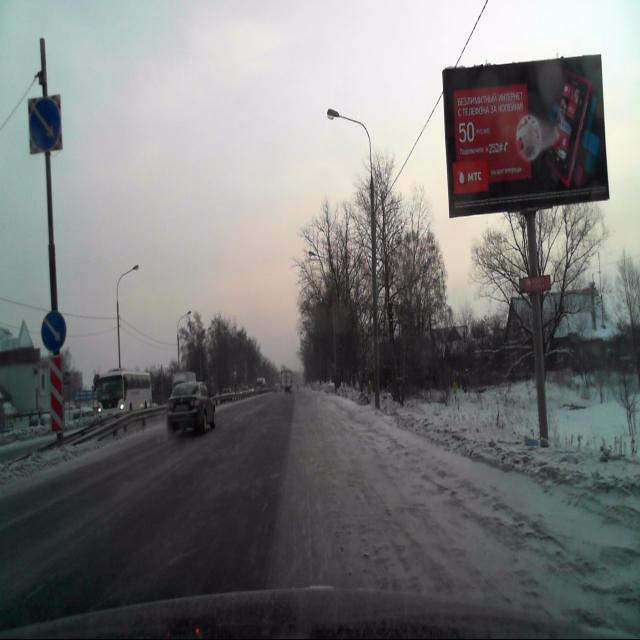road sign: (29, 94, 63, 155), (49, 356, 66, 435)
